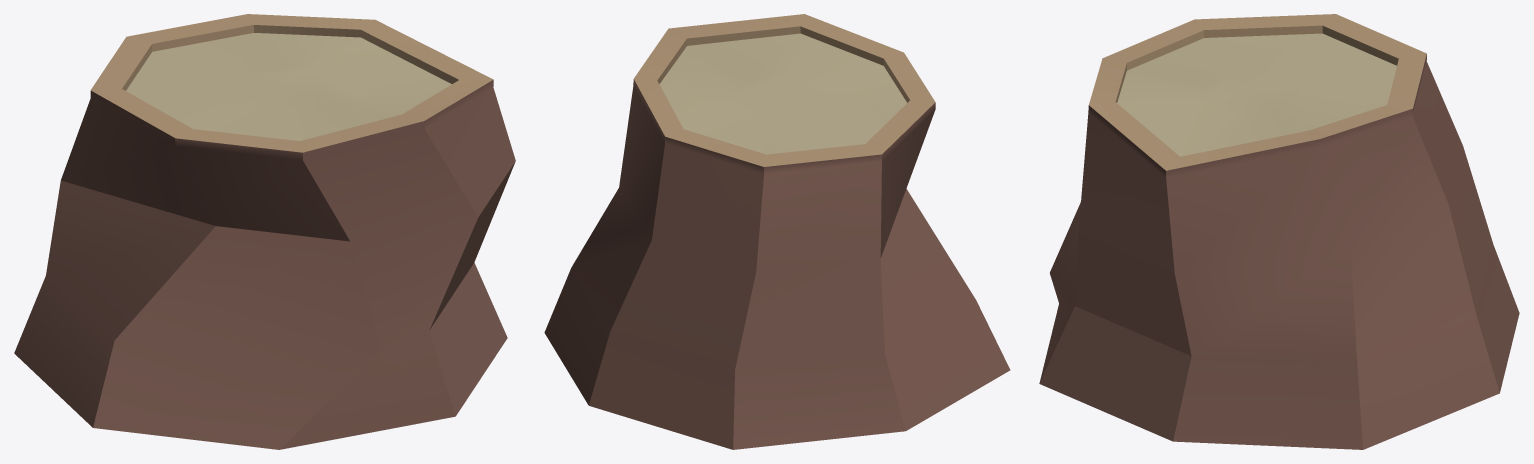
The model's file is Trunks__Stumps_Pack_Tree_trunk_01.007.fbx.
The picture shows the model from 3 angles, left to right: view 1: azimuth 30°, elevation 25°; view 2: azimuth 150°, elevation 25°; view 3: azimuth 270°, elevation 25°; orthographic projection. The views are drawn at different scales.
Parts seen in each view (by area): view 1: Trunks__Stumps_Pack_Tree_trunk_01.007; view 2: Trunks__Stumps_Pack_Tree_trunk_01.007; view 3: Trunks__Stumps_Pack_Tree_trunk_01.007.
Part boxes in pixels (x1,y1,x2,y2): Trunks__Stumps_Pack_Tree_trunk_01.007: [14, 14, 515, 449]; Trunks__Stumps_Pack_Tree_trunk_01.007: [544, 14, 1010, 449]; Trunks__Stumps_Pack_Tree_trunk_01.007: [1039, 14, 1519, 449].
Size of the model in its own units: 67.36 by 42.68 by 67.36.
